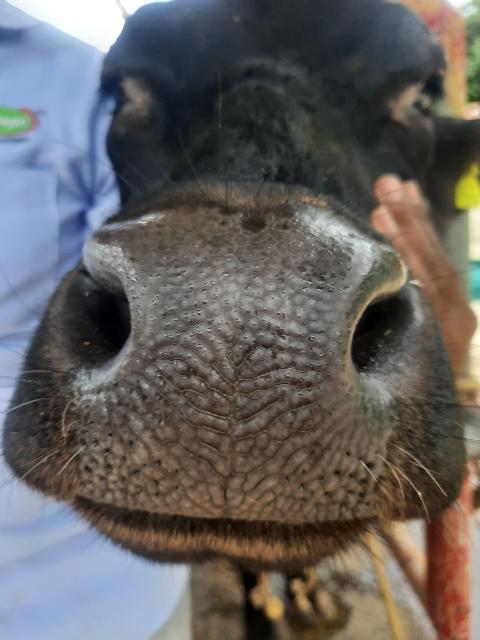Muzzle: (118, 238, 348, 512)
